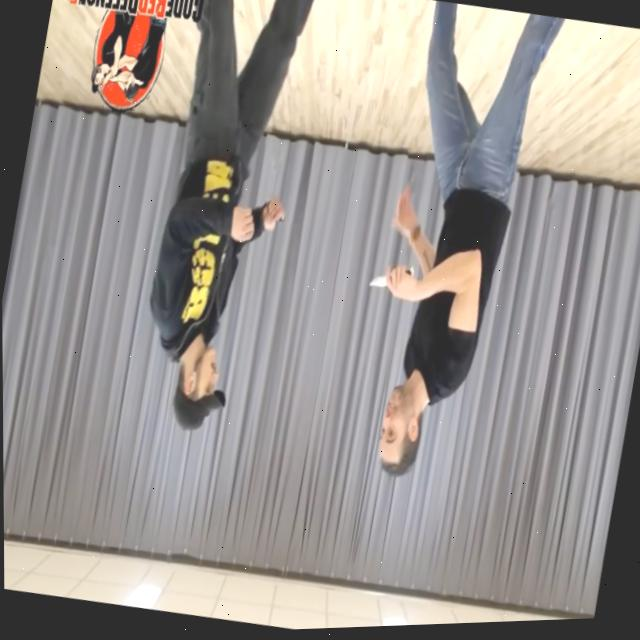knife: (367, 273, 387, 291)
